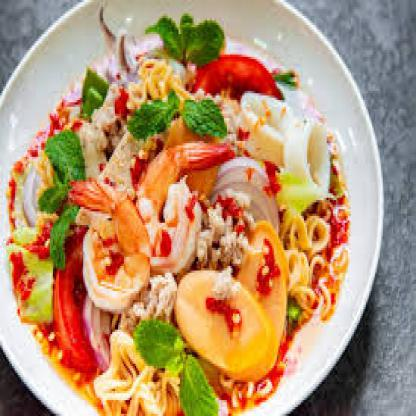Yum: (0, 5, 366, 414)
